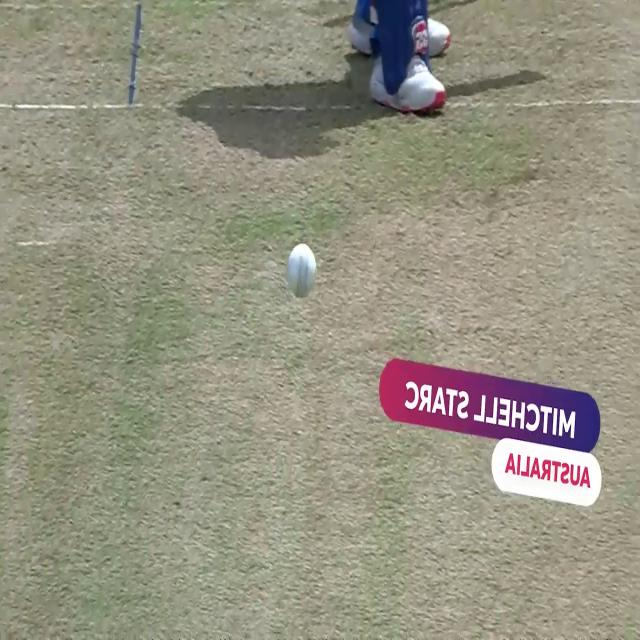ball: (285, 240, 318, 300)
